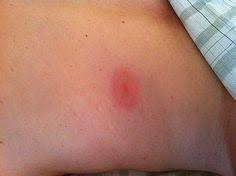Tick: (108, 65, 143, 118)
